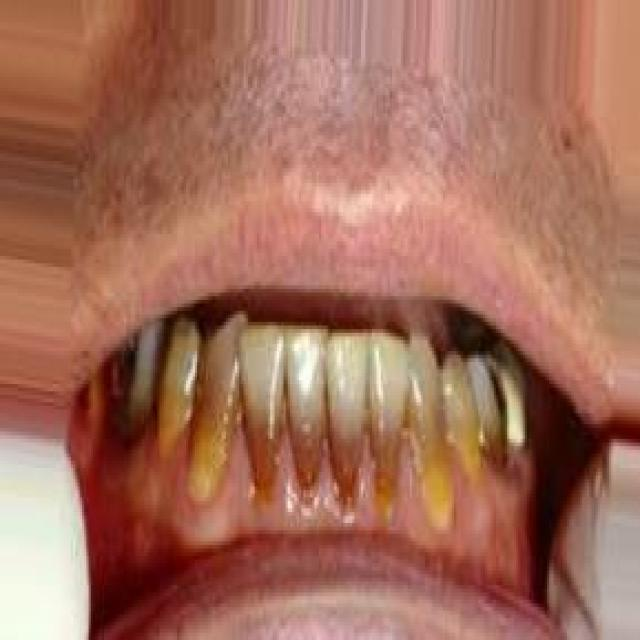caries: (482, 349, 512, 424)
